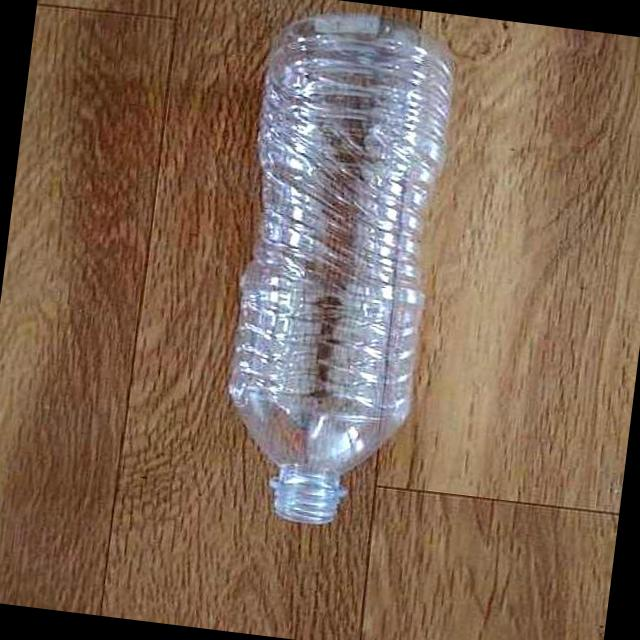Non-biodegradable: (208, 1, 463, 535)
